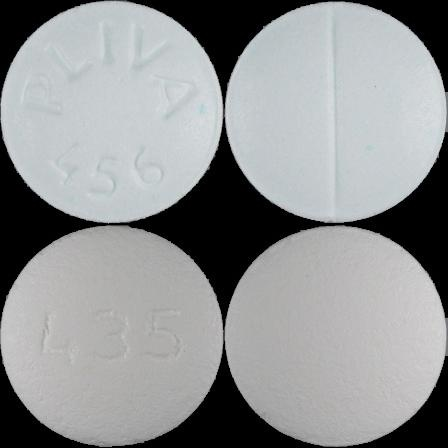35356-958: (0, 0, 224, 224)
